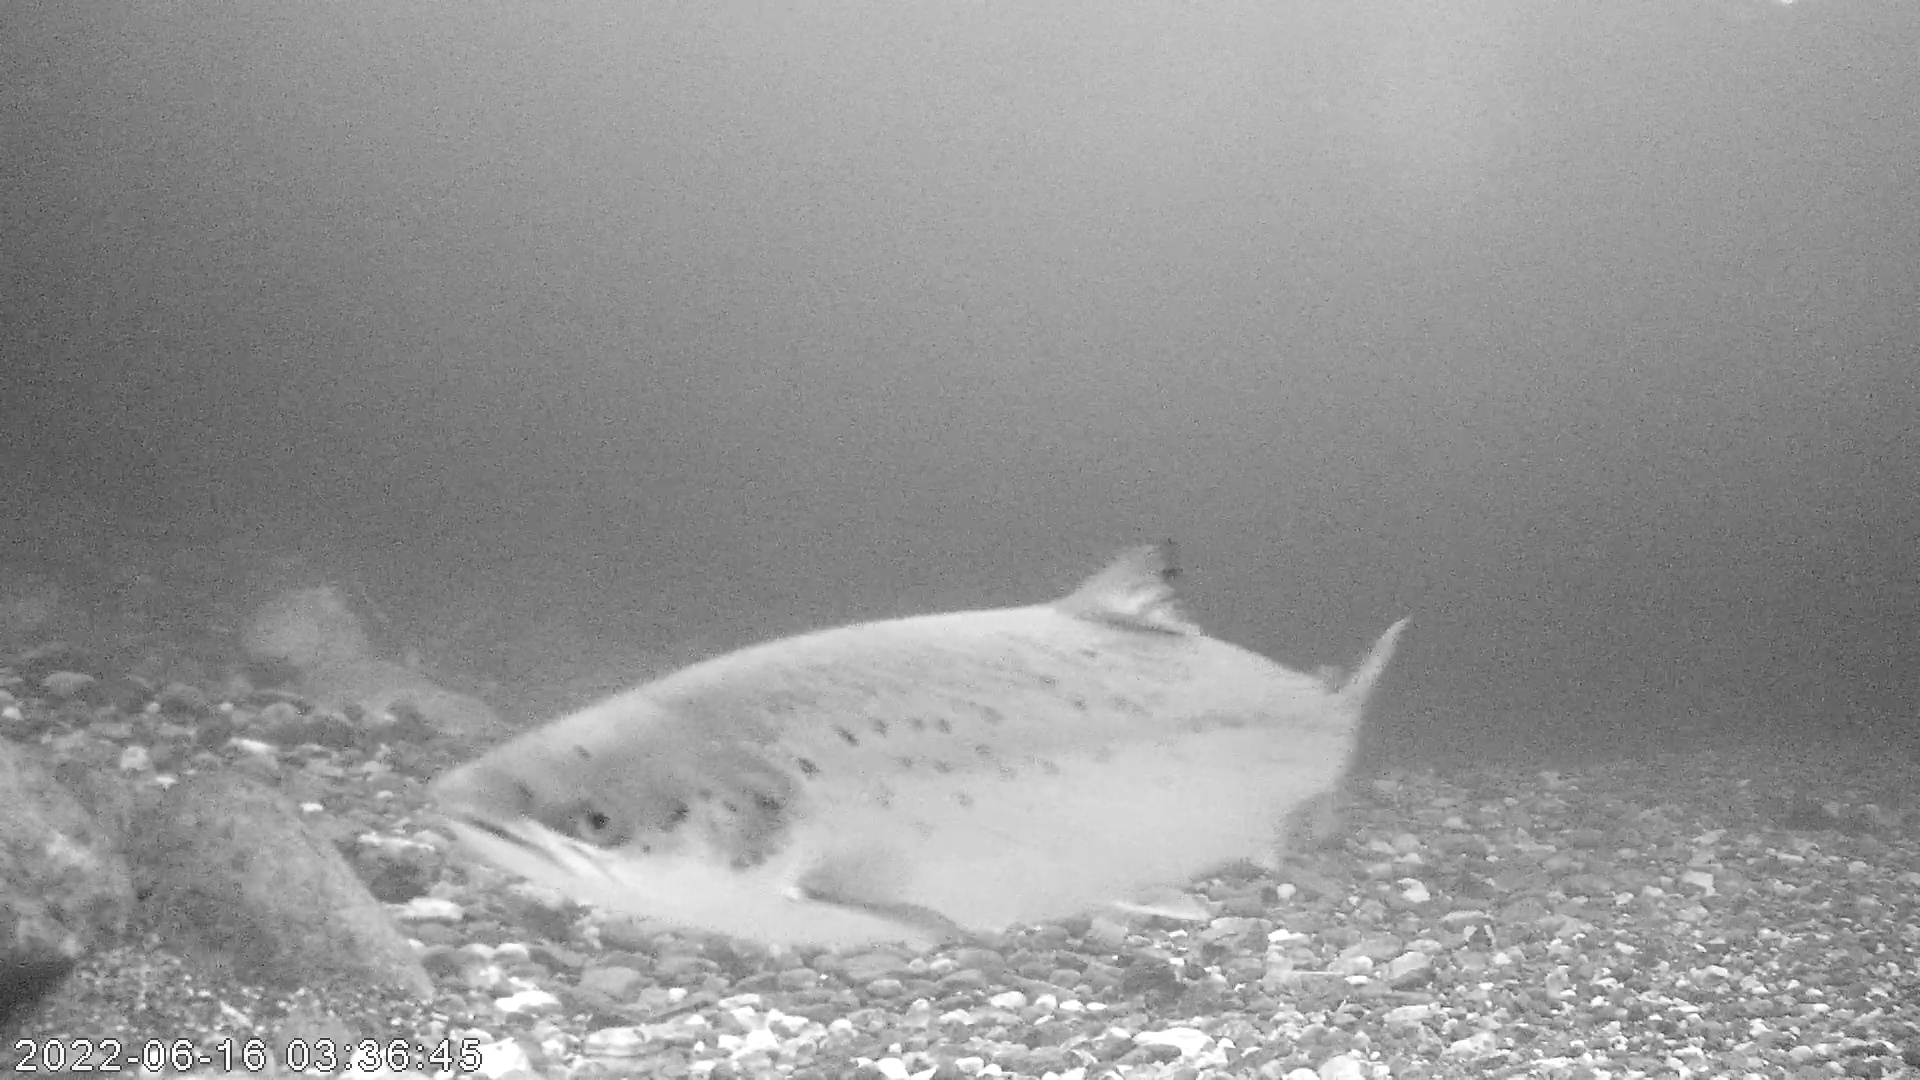salmon: (425, 535, 1412, 953)
